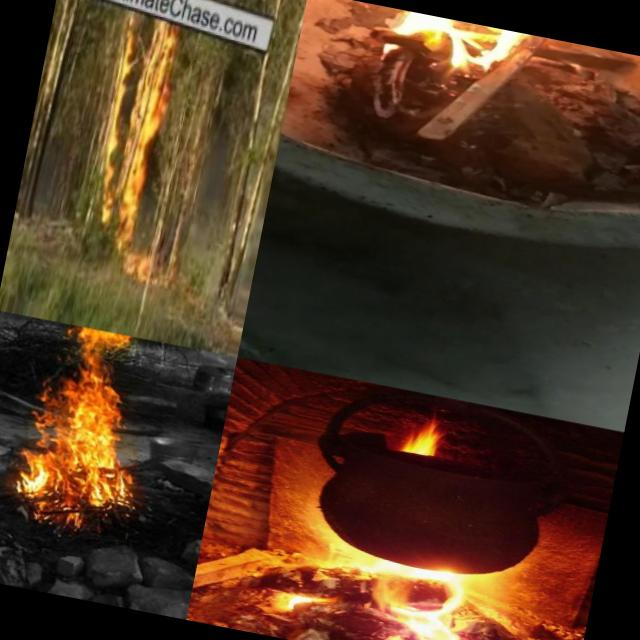fire: (6, 319, 165, 525), (317, 0, 558, 93), (107, 17, 171, 284), (352, 542, 488, 640), (396, 404, 468, 466), (264, 571, 338, 625), (373, 629, 475, 640)
